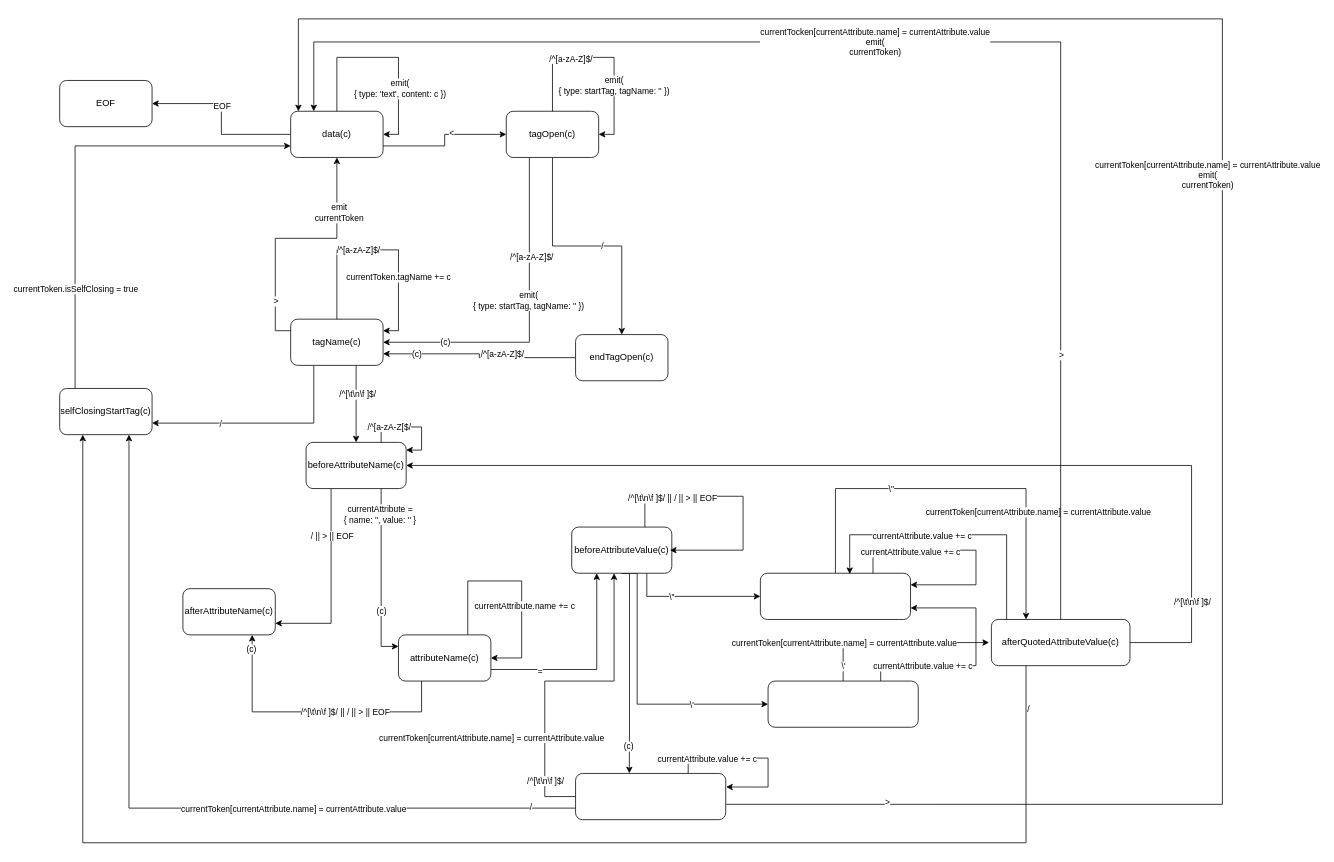
Image size: 1334x862. Some labels were removed from this diagram. The shapes that lost their labels are listed below. From the top down, each one's box as (x1, y1, x2, y2) in pixels, then its label:
(760, 572, 911, 619): doubleQuotedAttributeValue
(767, 680, 918, 727): singleQuotedAttributeValue
(575, 773, 726, 820): UnquotedAttributeValue
